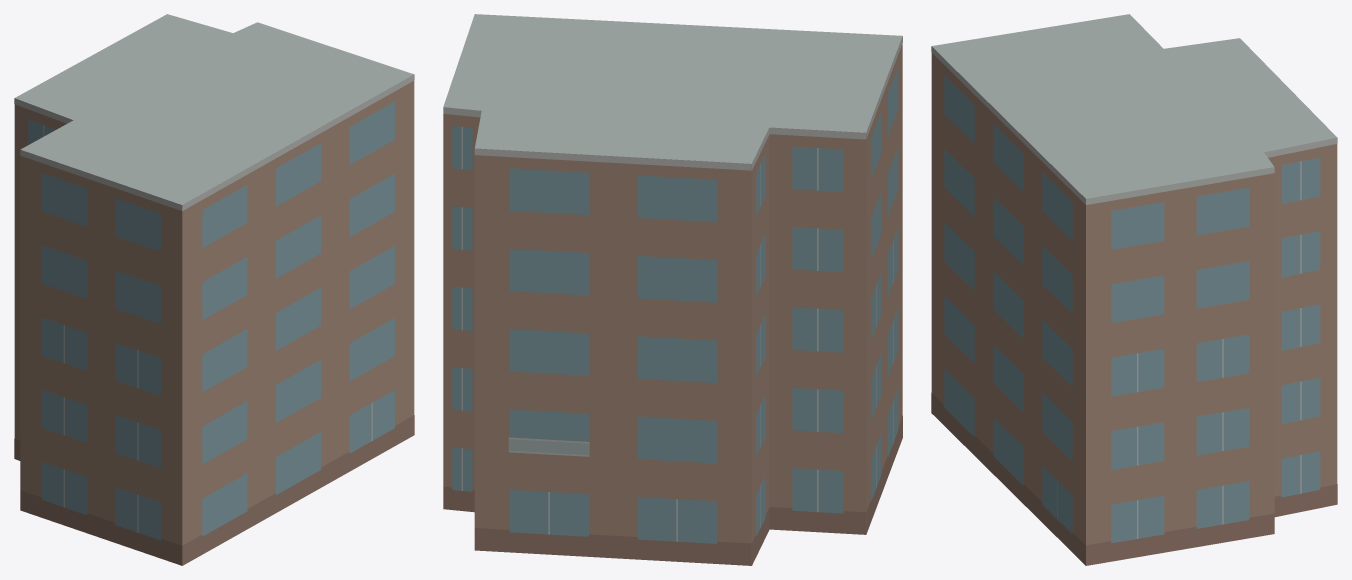
Rendered from survey-upis-32596964.glb.
The picture shows the model from 3 angles, left to right: view 1: azimuth 30°, elevation 25°; view 2: azimuth 150°, elevation 25°; view 3: azimuth 270°, elevation 25°; orthographic projection. The views are drawn at different scales.
Visible parts, largest first — view 1: survey-upis-32596964.tmp; view 2: survey-upis-32596964.tmp; view 3: survey-upis-32596964.tmp.
Part boxes in pixels (x1=…): survey-upis-32596964.tmp: x1=14, y1=14, x2=414, y2=565; survey-upis-32596964.tmp: x1=443, y1=14, x2=902, y2=565; survey-upis-32596964.tmp: x1=931, y1=14, x2=1337, y2=565.
Bounding box in the file's own units: 15.85 × 14.65 × 14.7.
